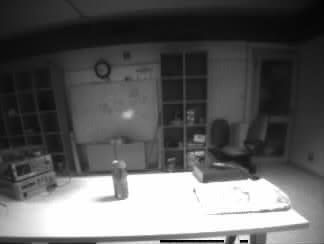Tin can: (112, 161, 128, 199)
